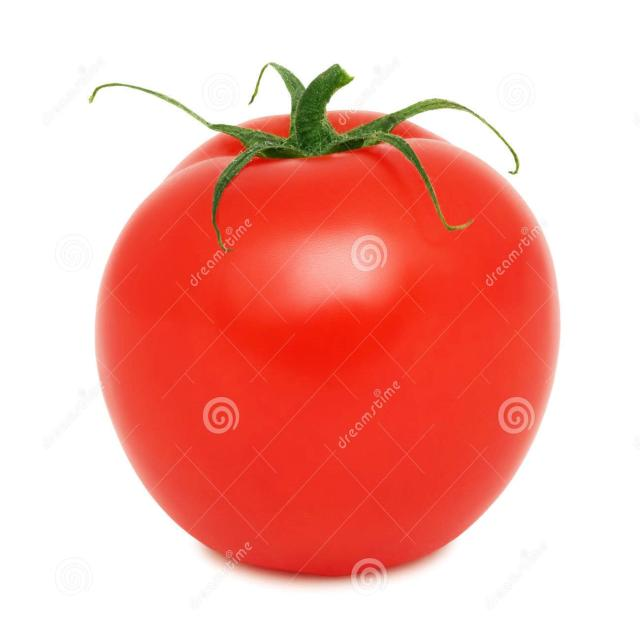kirmizi: (71, 41, 576, 591)
